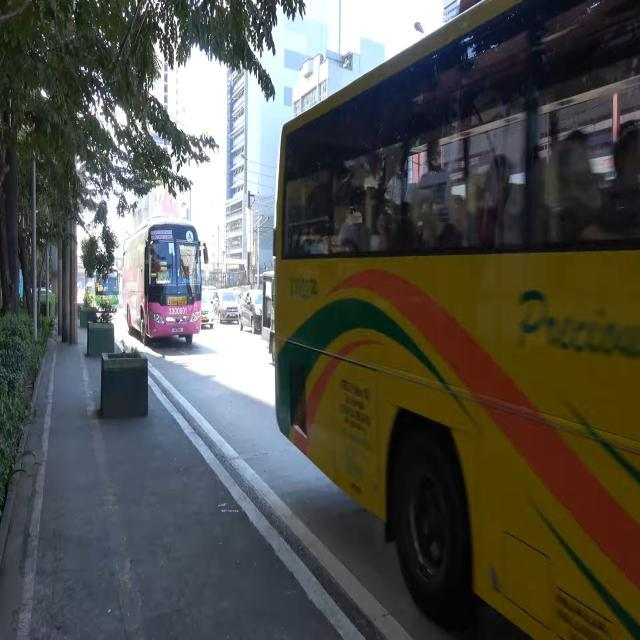bus: (274, 0, 640, 640), (121, 215, 206, 348), (94, 268, 120, 314)
car: (238, 290, 264, 334), (213, 289, 238, 324), (201, 291, 213, 330)
